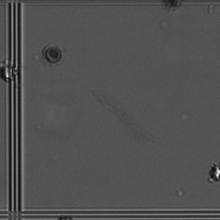Dead Cell: (39, 42, 67, 67)
